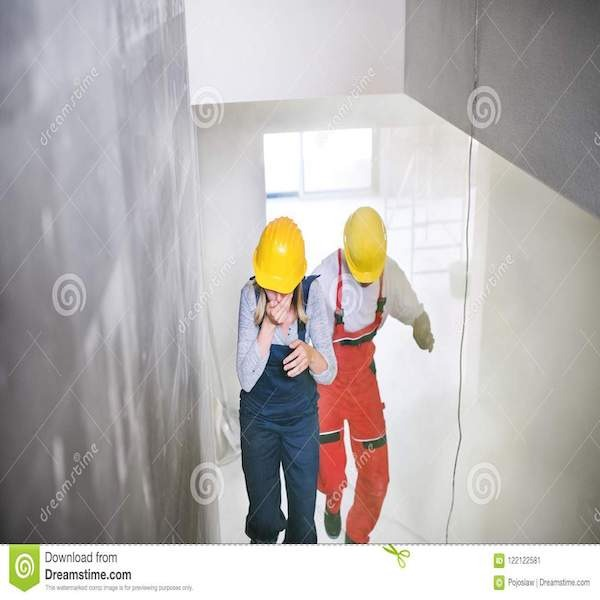helmet: (342, 206, 394, 280), (256, 217, 306, 292)
